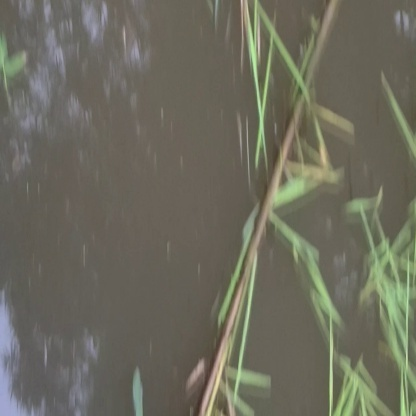branch: (209, 5, 346, 407)
